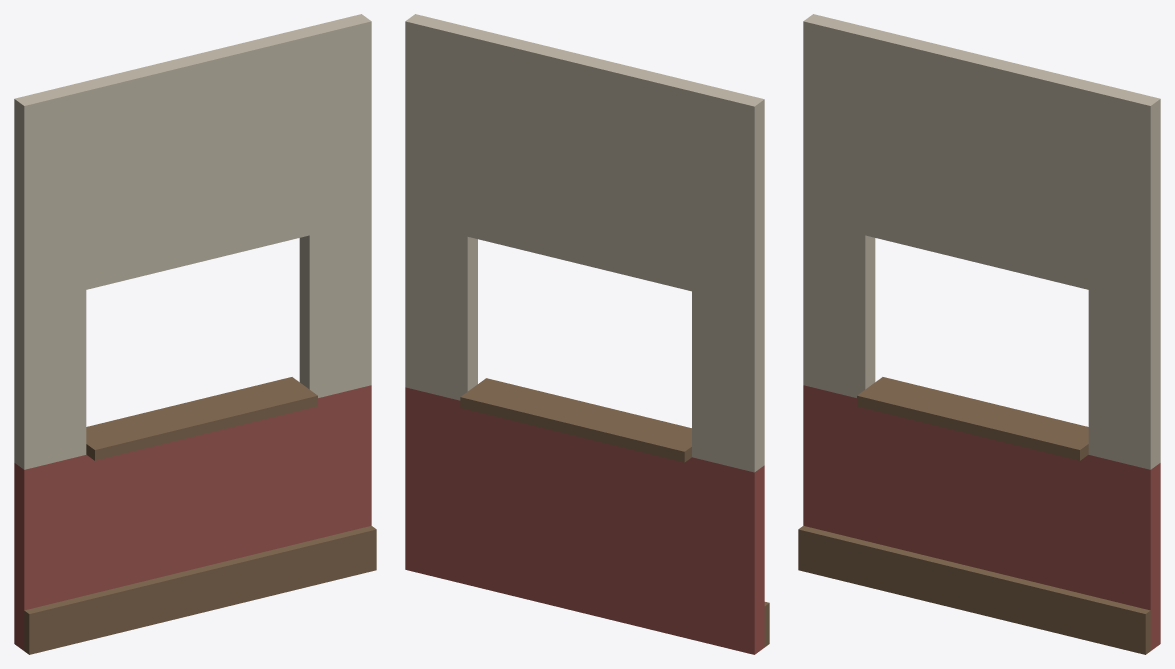
Rendered from Mesh_WallBaseboard2Colors_D3.fbx.
3 renders of one model, left to right at view 1: azimuth 30°, elevation 25°; view 2: azimuth 150°, elevation 25°; view 3: azimuth 330°, elevation 25°, orthographic.
Visible parts, largest first — view 1: Mesh_WallBaseboard2Colors_D3; view 2: Mesh_WallBaseboard2Colors_D3; view 3: Mesh_WallBaseboard2Colors_D3.
Boxes of the visible parts, <box> form: Mesh_WallBaseboard2Colors_D3: <box>14,14,376,654</box>; Mesh_WallBaseboard2Colors_D3: <box>405,14,769,654</box>; Mesh_WallBaseboard2Colors_D3: <box>798,14,1160,654</box>.
Bounding box in the file's own units: 2 × 3 × 0.2574.
